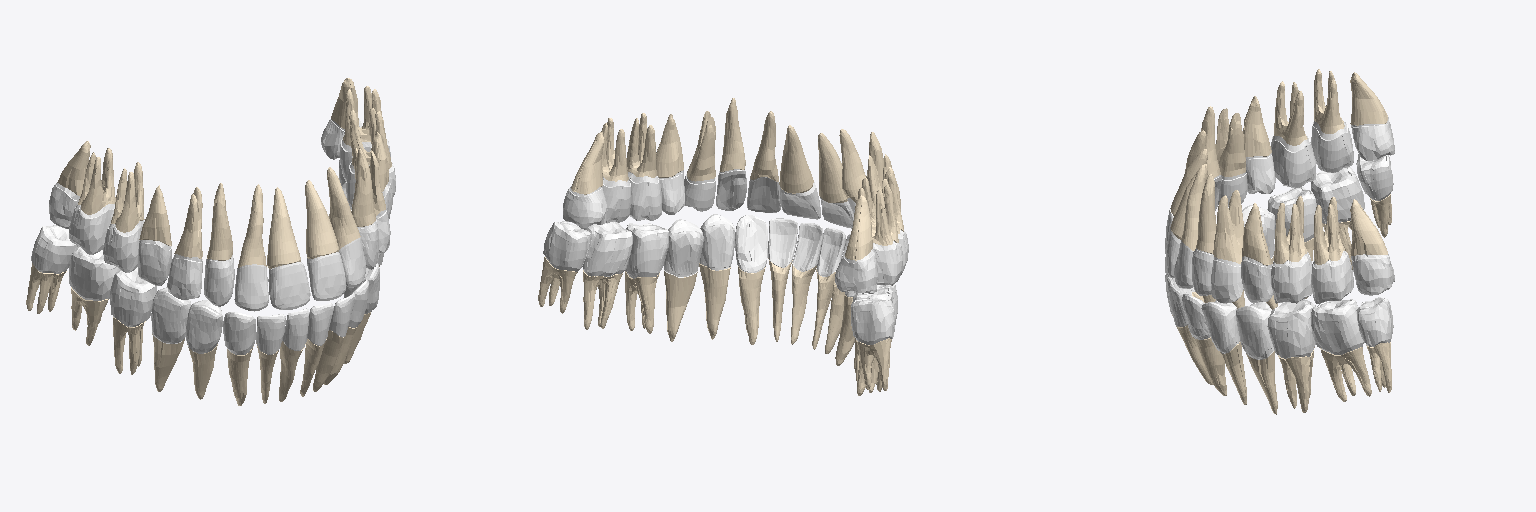
File: teeth.obj
3 views of the same model, side by side, from view 1: azimuth 30°, elevation 25°; view 2: azimuth 150°, elevation 25°; view 3: azimuth 270°, elevation 25° (orthographic).
Visible parts, largest first — view 1: d46 1 R, d47 1 R, d11 R, d45 1 R, d48 1 R, d17 R, d21 1 L, d11 1 R, d44 1 R, d16 R, d17 1 R, d21 L (+28 smaller); view 2: d37 1 L, d36 1 L, d38 1 L, d35 1 L, d48 1 R, d33 1 L, d34 1 L, d21 1 L, d26 L, d28 1 L, d18 1 R, d11 1 R (+28 smaller); view 3: d37 1 L, d36 1 L, d47 1 R, d16 1 R, d24 L, d35 1 L, d27 1 L, d14 R, d26 1 L, d17 1 R, d26 L, d37 L (+28 smaller).
Part boxes in pixels (x1,y1,x2,y2): d46 1 R: (110,267,156,326); d47 1 R: (69,246,119,300); d11 R: (268,262,310,309); d45 1 R: (151,287,190,343); d48 1 R: (31,225,77,273); d17 R: (78,148,115,214); d21 1 L: (305,180,338,258); d11 1 R: (267,187,300,268); d44 1 R: (186,300,222,353); d16 R: (111,162,144,232); d17 1 R: (69,204,114,254); d21 L: (307,252,345,300); d37 1 L: (582,222,632,276); d36 1 L: (625,223,668,278); d38 1 L: (543,221,590,271); d35 1 L: (664,219,703,277); d48 1 R: (851,299,894,344); d33 1 L: (735,215,767,272); d34 1 L: (700,214,734,270); d21 1 L: (779,125,813,193); d26 L: (627,113,656,177); d28 1 L: (563,186,607,228); d18 1 R: (835,249,877,293); d11 1 R: (818,133,847,202); d37 1 L: (1311,299,1363,354); d36 1 L: (1267,299,1315,358); d47 1 R: (1311,167,1364,223); d16 1 R: (1271,136,1315,188); d24 L: (1213,190,1243,263); d35 1 L: (1236,302,1273,359); d27 1 L: (1311,251,1353,303); d14 R: (1216,108,1245,176); d26 1 L: (1271,252,1312,303); d17 1 R: (1311,121,1353,172); d26 L: (1274,196,1307,263); d37 L: (1320,347,1371,401).
Bounding box in the file's own units: 7.85 × 5.14 × 4.47.